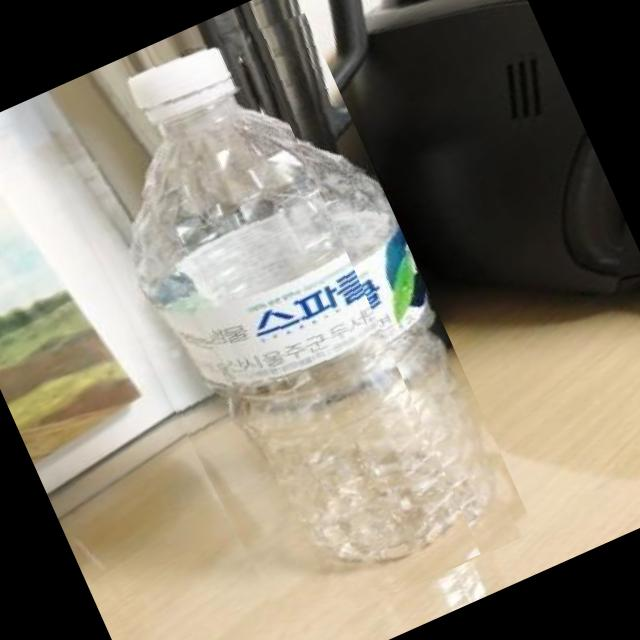plastic bottle: (23, 0, 535, 640), (84, 6, 481, 622)
